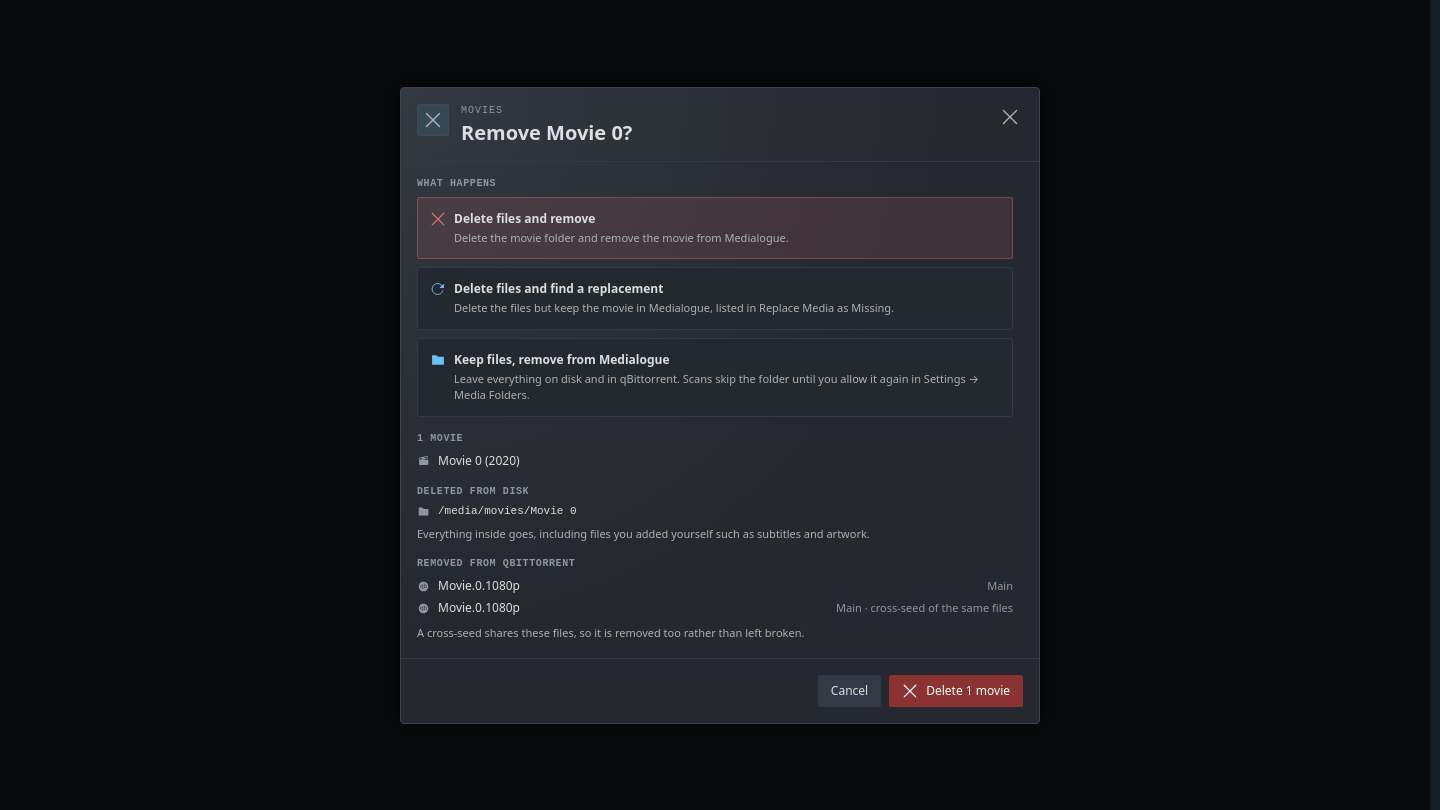
Scenario: RemoveTitlesModal › stays open on a failure so the removal can be retried
Click the button "Delete 1 movie".
click(956, 690)  # box [889,674,1023,706]
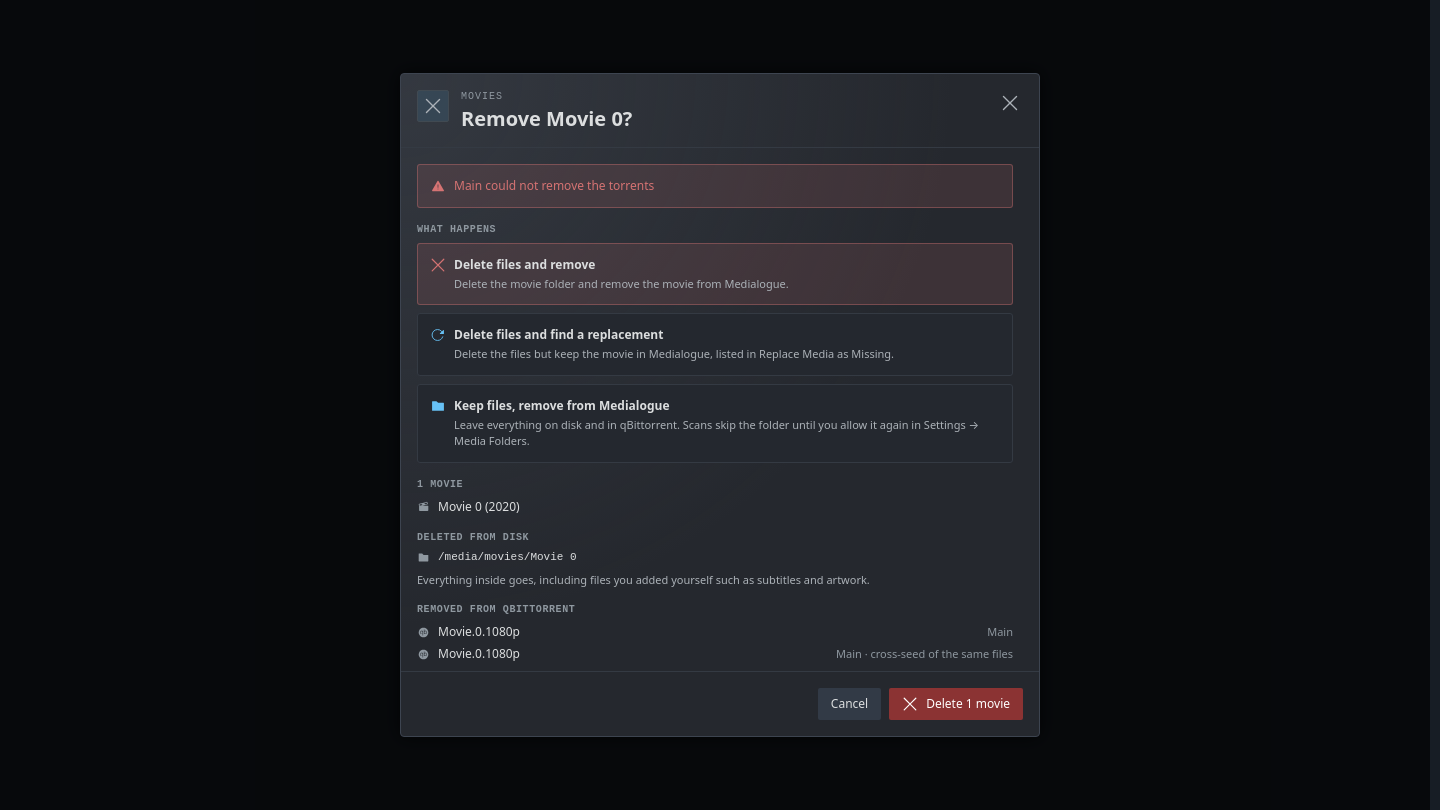
Expected: the text "Main could not remove the torrents" is shown, [454,177,654,195]
